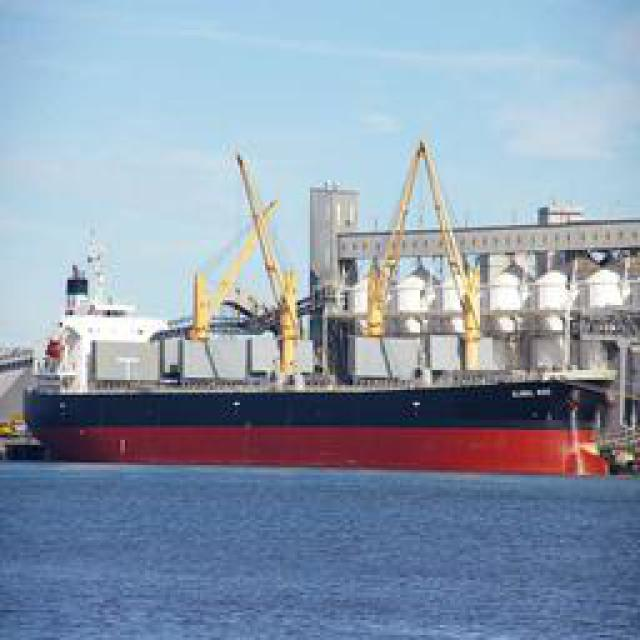Ship: (18, 132, 640, 463)
